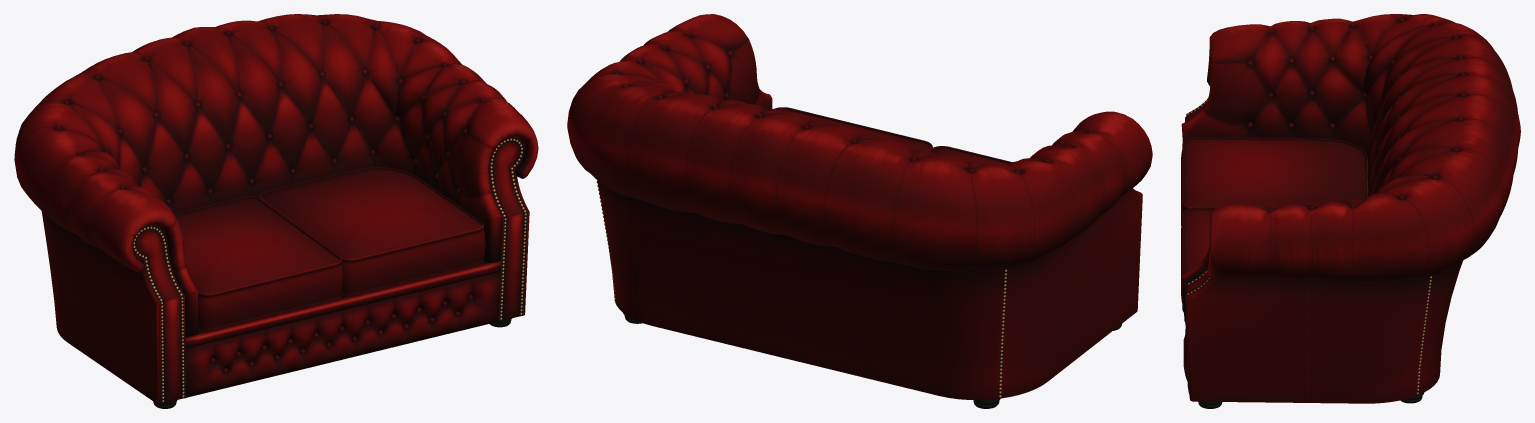
File: COUCH2.fbx
3 views of the same model, side by side, from view 1: azimuth 30°, elevation 25°; view 2: azimuth 150°, elevation 25°; view 3: azimuth 270°, elevation 25° (orthographic). The views are drawn at different scales.
Parts seen in each view (by area): view 1: COUCH2; view 2: COUCH2; view 3: COUCH2.
Boxes of the visible parts, x1,y1,x2,y2 form: COUCH2: (14,14,538,408); COUCH2: (567,14,1152,408); COUCH2: (1181,14,1520,408).
Bounding box in the file's own units: 364 × 192 × 245.
